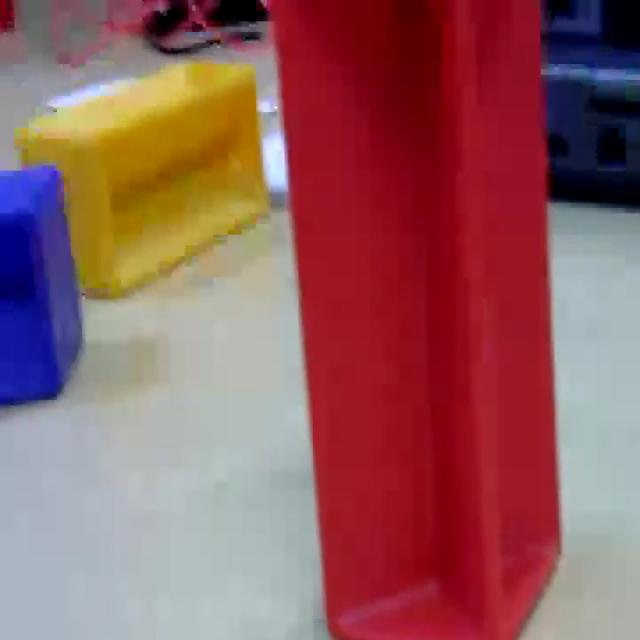blue_block: (0, 162, 83, 406)
red_block: (270, 0, 564, 636)
yellow_block: (13, 59, 271, 298)
